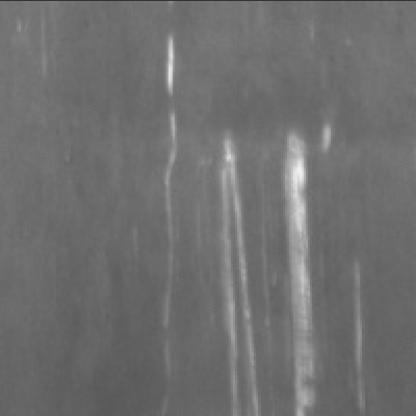scratches: (272, 108, 330, 412), (210, 125, 264, 412), (154, 25, 181, 322), (343, 254, 364, 404)
